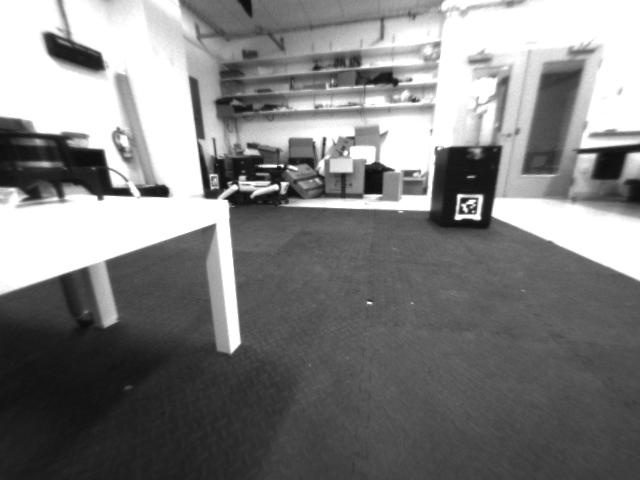door_handle: (497, 128, 514, 143)
drawer: (462, 143, 488, 166)
